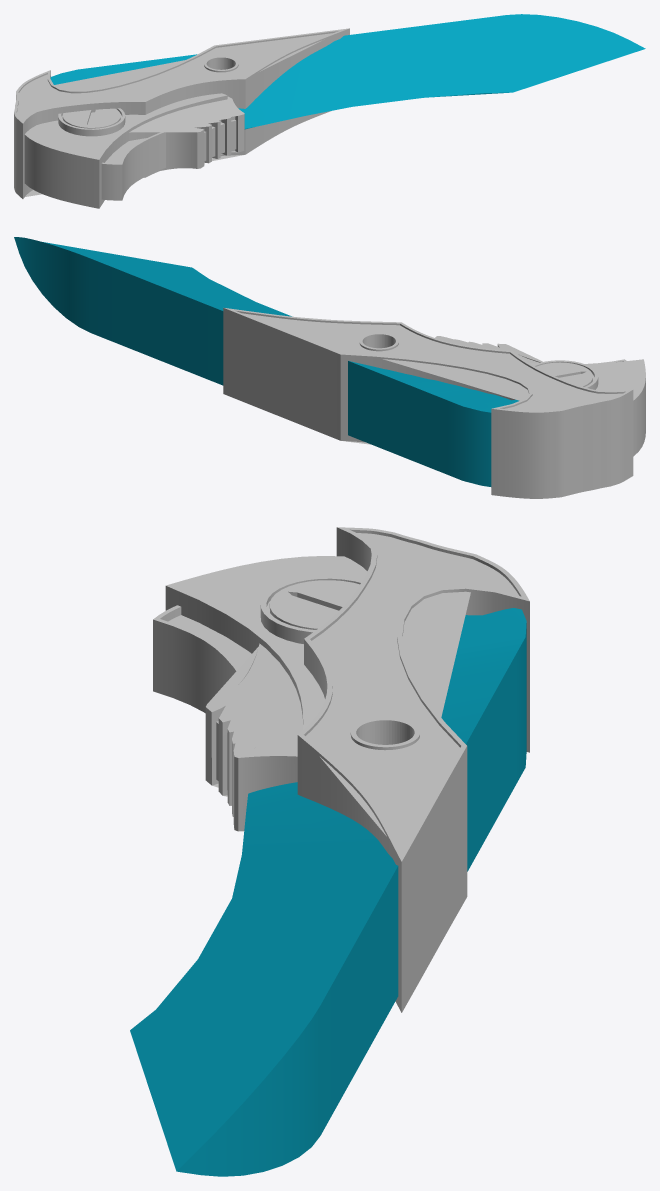
Rendered from flipper_knife.obj.
The picture shows the model from 3 angles, top to bottom: view 1: azimuth 30°, elevation 25°; view 2: azimuth 150°, elevation 25°; view 3: azimuth 270°, elevation 25°; orthographic projection. The views are drawn at different scales.
Parts seen in each view (by area): view 1: Slim_Left_Flipper_Cylinder.001; view 2: Slim_Left_Flipper_Cylinder.001; view 3: Slim_Left_Flipper_Cylinder.001.
Boxes of the visible parts, x1,y1,x2,y2 form: Slim_Left_Flipper_Cylinder.001: [14, 14, 645, 208]; Slim_Left_Flipper_Cylinder.001: [14, 237, 645, 498]; Slim_Left_Flipper_Cylinder.001: [130, 527, 529, 1176].
Size of the model in its own units: 1.26 by 0.1563 by 0.3745.
